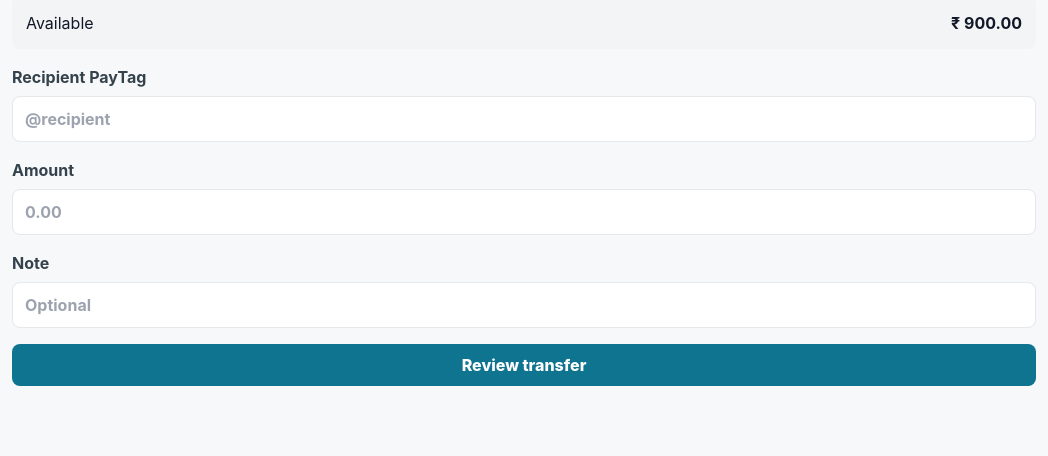
Scenario: SendMoneyForm › clears stale recipient errors as soon as the field changes
The image size is (1048, 456).
Type "@missing" into the field labelled "Recipient PayTag" at (524,119), box x1=12 y1=96 x2=1036 y2=142
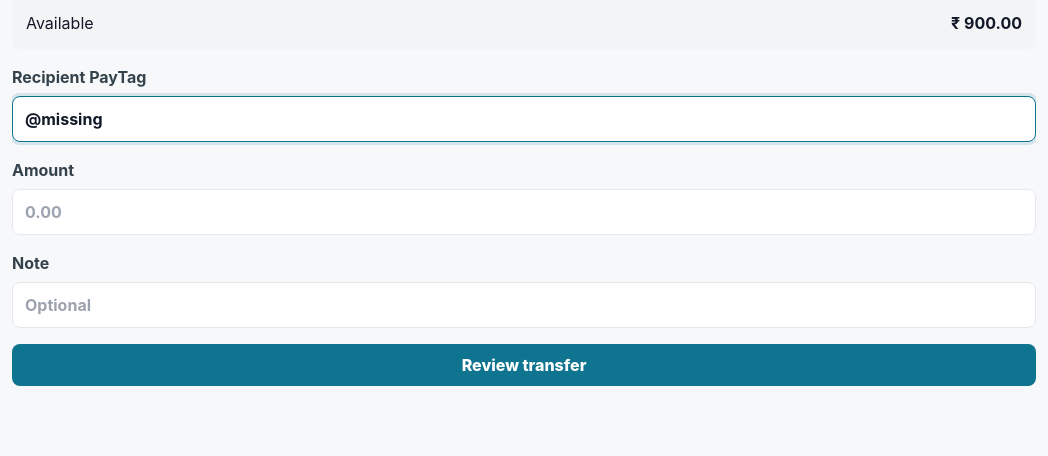
Type "10.00" into the field labelled "Amount" at (524,212), box x1=12 y1=189 x2=1036 y2=235
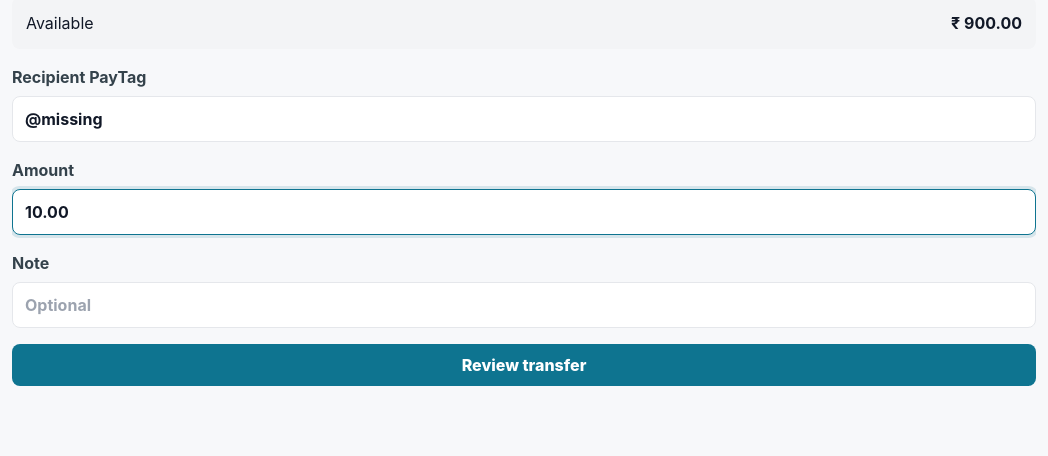
Click the button "Review transfer" at (524,365), box x1=12 y1=344 x2=1036 y2=386
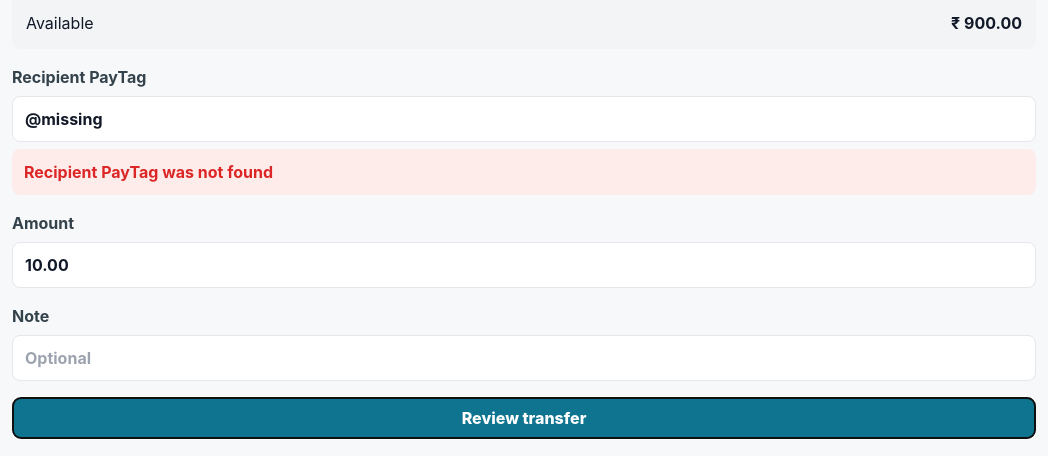
Now the text "Recipient PayTag was not found" is shown, box x1=12 y1=149 x2=1036 y2=195
Clear the field labelled "Recipient PayTag Recipient PayTag was not found" at (524,119), box x1=12 y1=96 x2=1036 y2=142
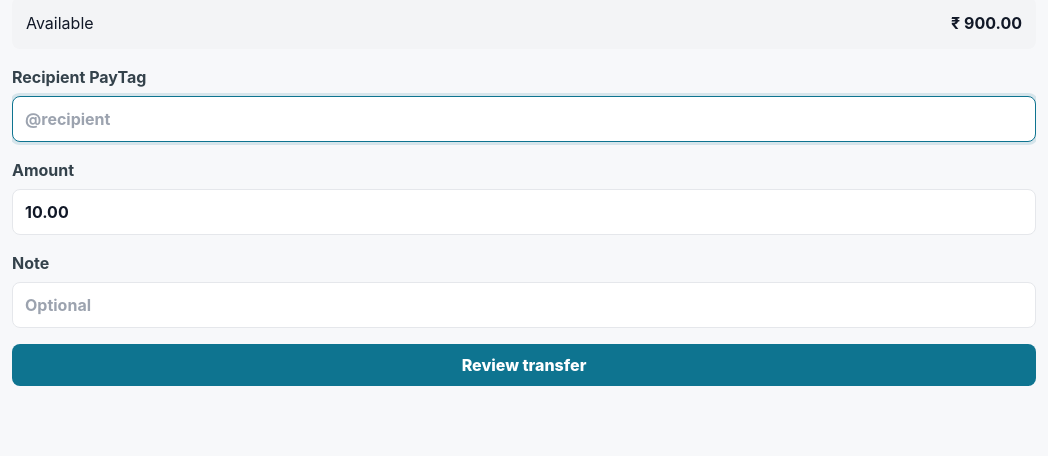
Now the text "Recipient PayTag was not found" is gone
